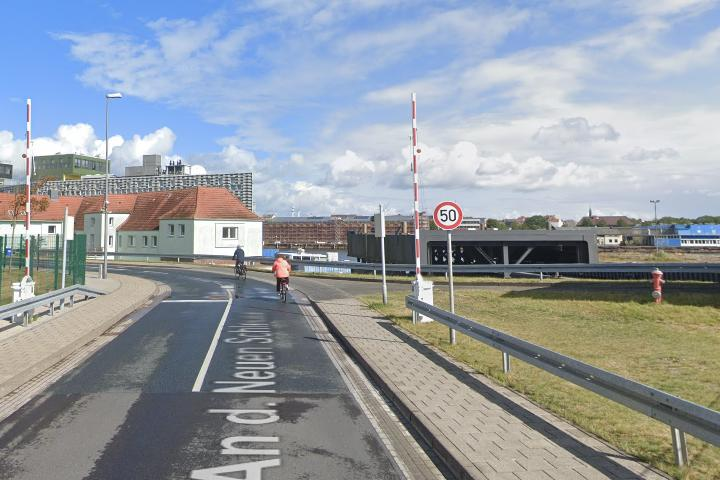traffic_sign: (432, 201, 463, 230)
